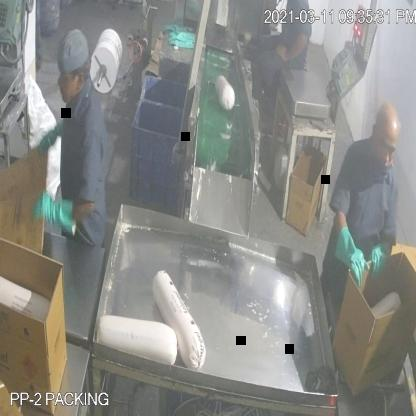glove: (332, 216, 369, 292), (34, 188, 76, 245), (365, 238, 392, 291)
no_glove: (276, 32, 312, 66)
